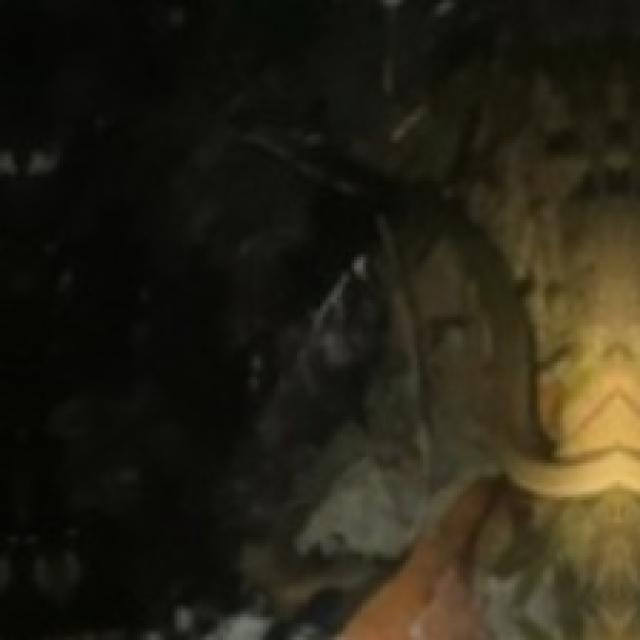king cobra: (260, 74, 637, 637)
